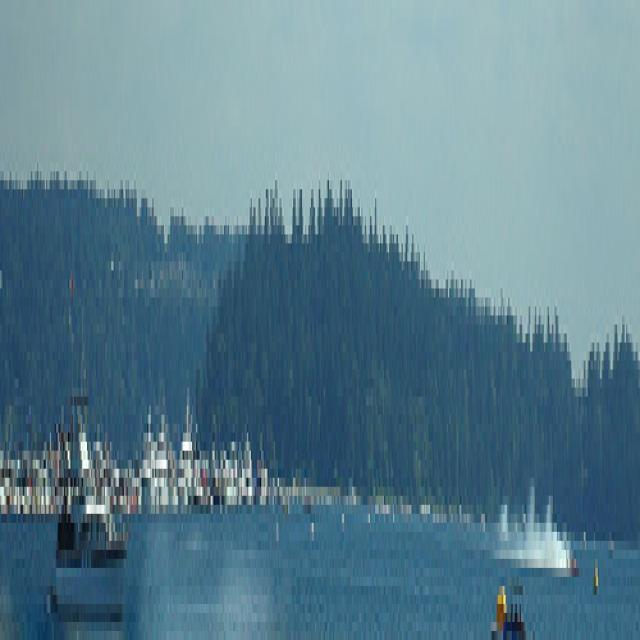boat: (47, 389, 132, 623)
